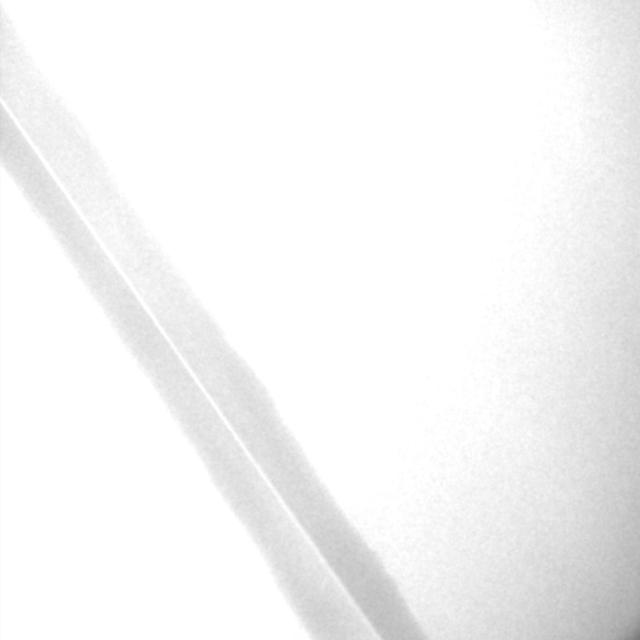broken arc: (1, 99, 377, 636)
